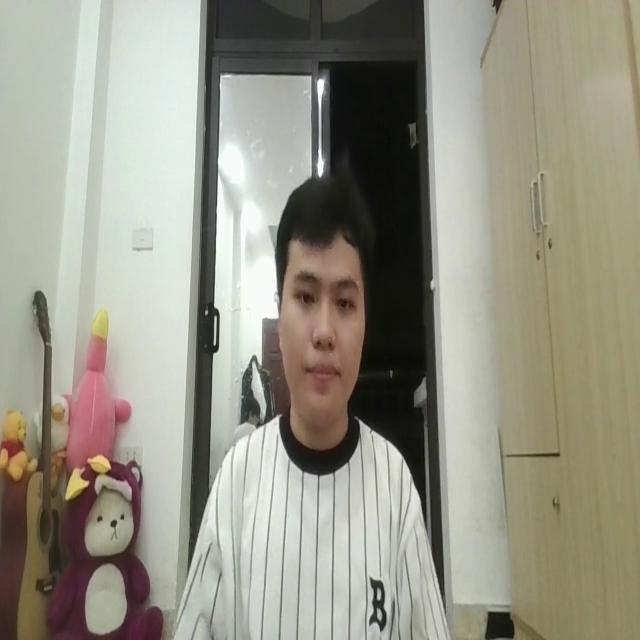student: (151, 170, 448, 640)
